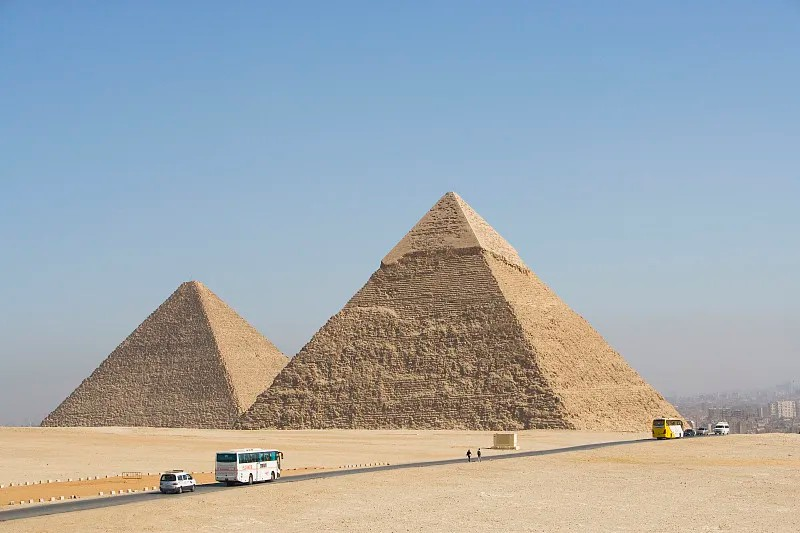Pyramid: (233, 191, 693, 433), (39, 279, 292, 430)
